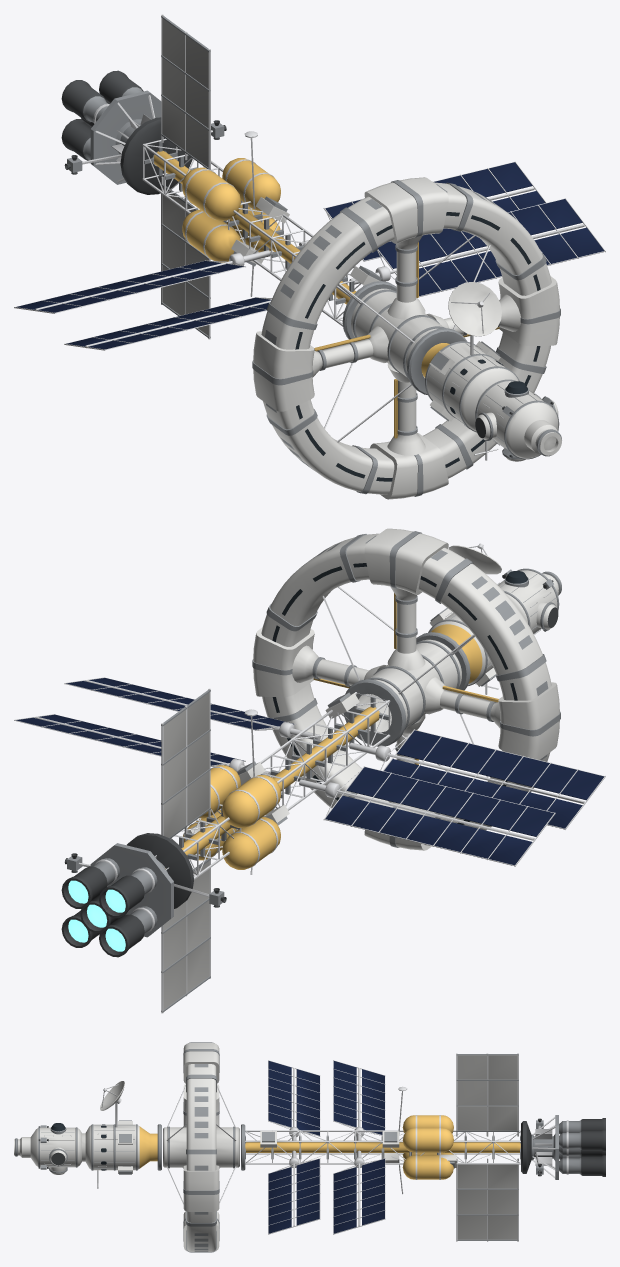
Rendered from hermes.glb.
3 views of the same model, one above another, from view 1: azimuth 30°, elevation 25°; view 2: azimuth 150°, elevation 25°; view 3: azimuth 270°, elevation 25° (orthographic). The views are drawn at different scales.
Parts seen in each view (by area): view 1: hermes_mesh, ring_mesh; view 2: hermes_mesh, ring_mesh; view 3: hermes_mesh, ring_mesh.
Boxes of the visible parts, box(x1,y1,x2,y2) form: hermes_mesh: box(14, 14, 605, 461); ring_mesh: box(252, 177, 560, 499); hermes_mesh: box(14, 543, 605, 1013); ring_mesh: box(252, 528, 560, 850); hermes_mesh: box(14, 1053, 605, 1241); ring_mesh: box(163, 1042, 239, 1252).
Size of the model in its own units: 38.04 by 21.8 by 60.
